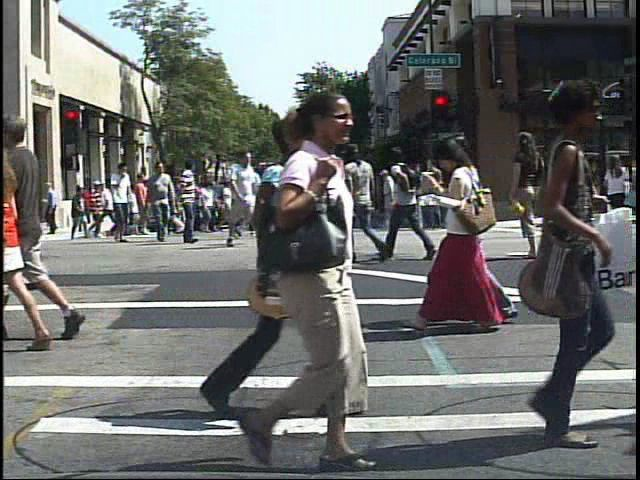person: (203, 83, 395, 479), (478, 79, 619, 462), (5, 102, 94, 344), (404, 133, 508, 336), (380, 138, 445, 267), (460, 127, 495, 342), (3, 126, 32, 351), (511, 129, 558, 262), (348, 135, 393, 271), (557, 137, 599, 260), (225, 146, 262, 252), (604, 145, 636, 249), (145, 158, 178, 245), (173, 157, 203, 246), (106, 161, 135, 244), (383, 164, 408, 236), (82, 178, 108, 241), (78, 182, 99, 229)
